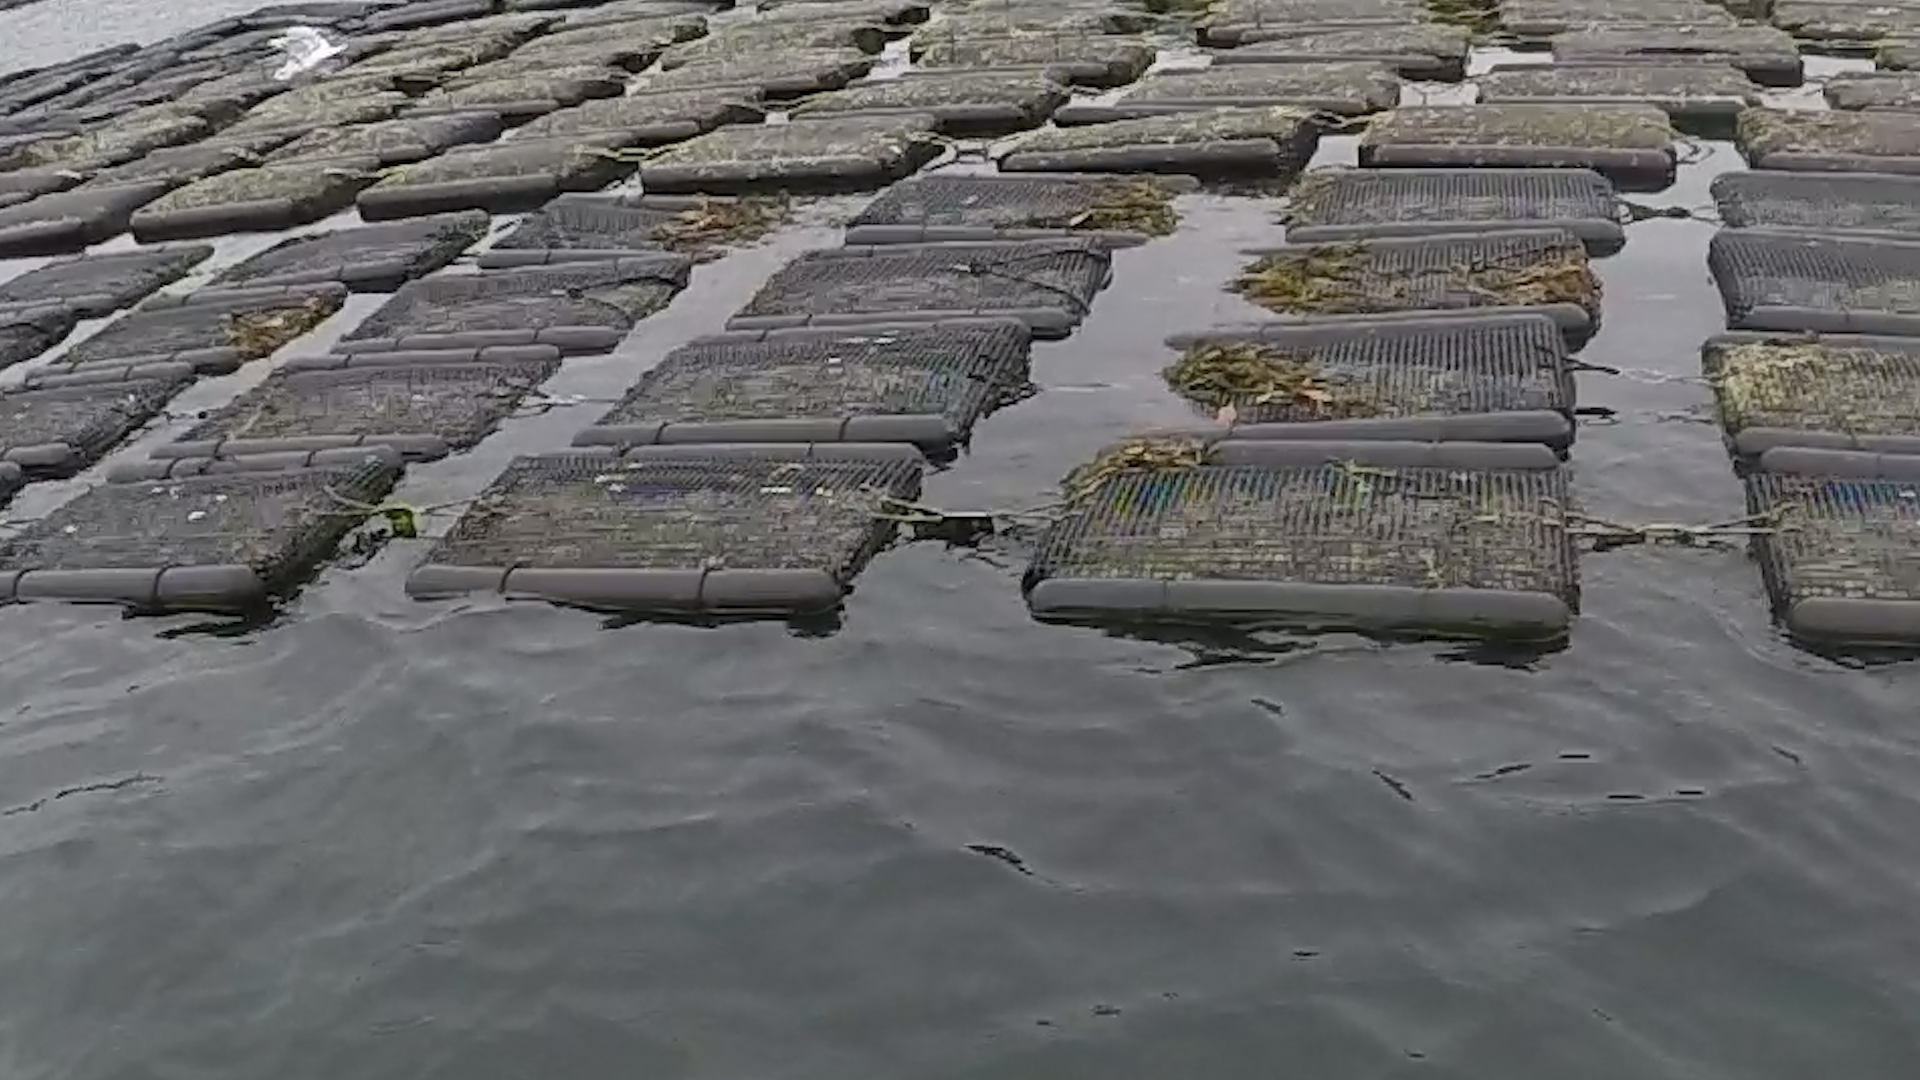bag: (1013, 433, 1575, 640), (396, 444, 936, 618), (1, 452, 411, 618), (1117, 313, 1571, 442), (568, 320, 1033, 446)
